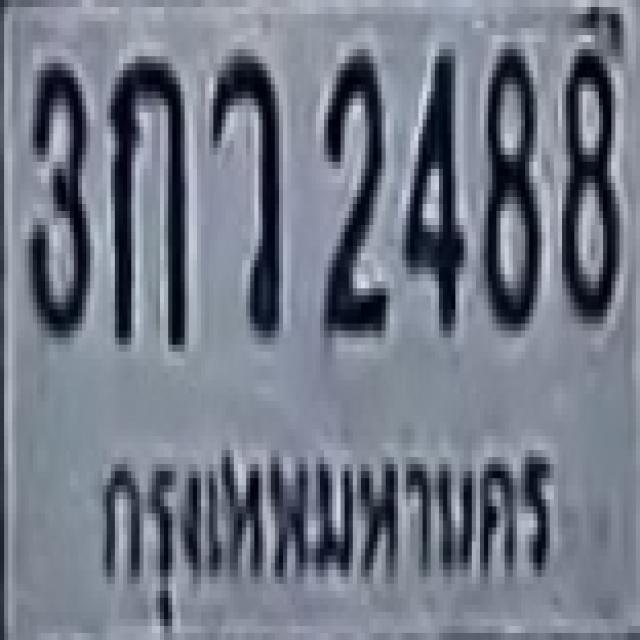-: (106, 49, 184, 345), (209, 49, 279, 331)
2: (320, 42, 382, 331)
3: (25, 56, 86, 331)
4: (398, 39, 459, 327)
8: (480, 42, 537, 324), (558, 42, 615, 317)
BKK: (87, 417, 576, 640)
